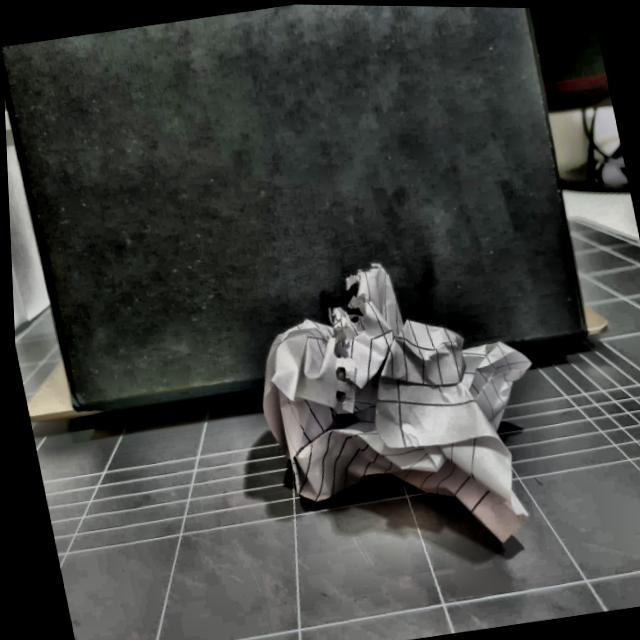Paper: (231, 243, 569, 561)
